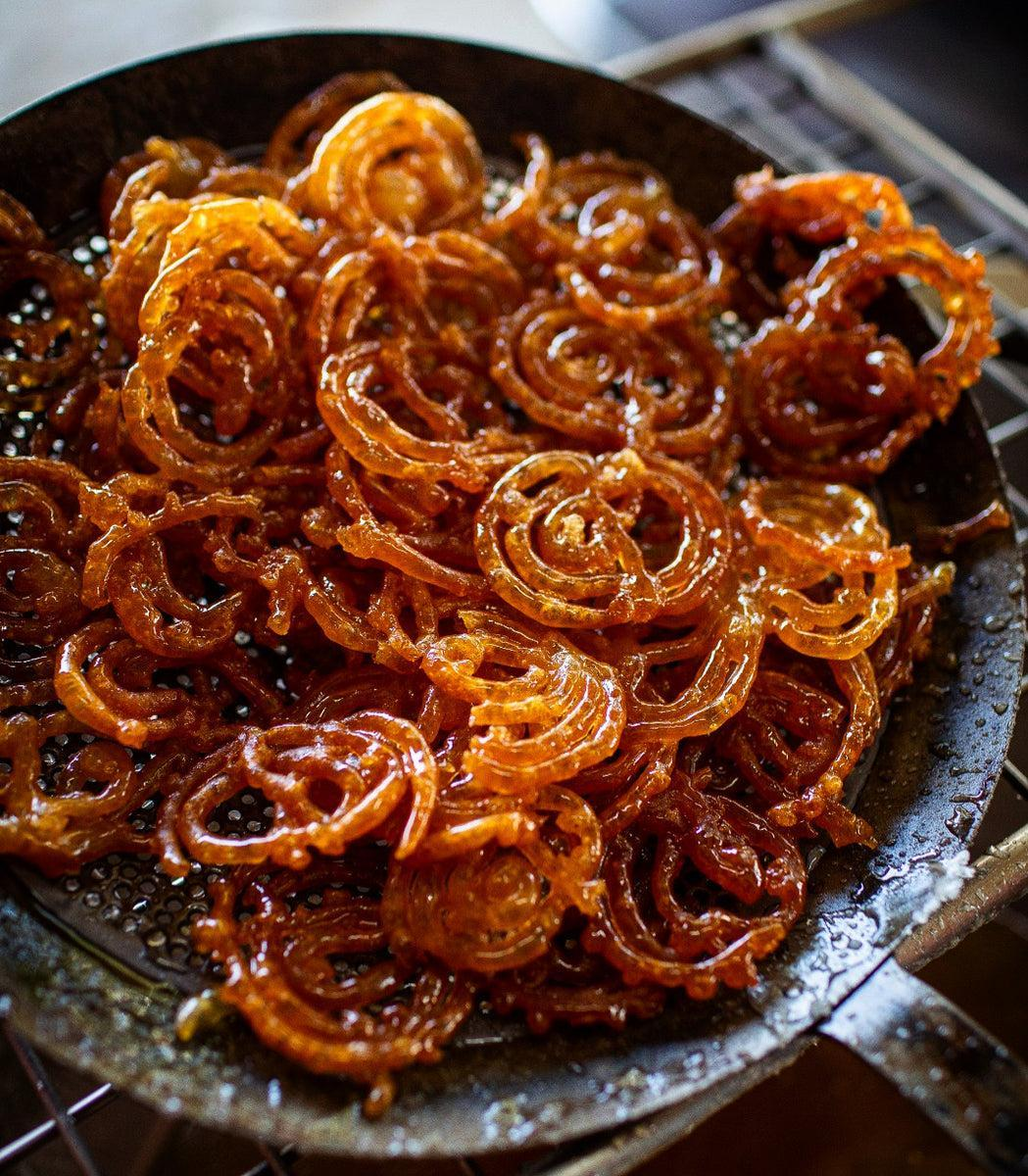jalebi: (13, 93, 1000, 1048)
